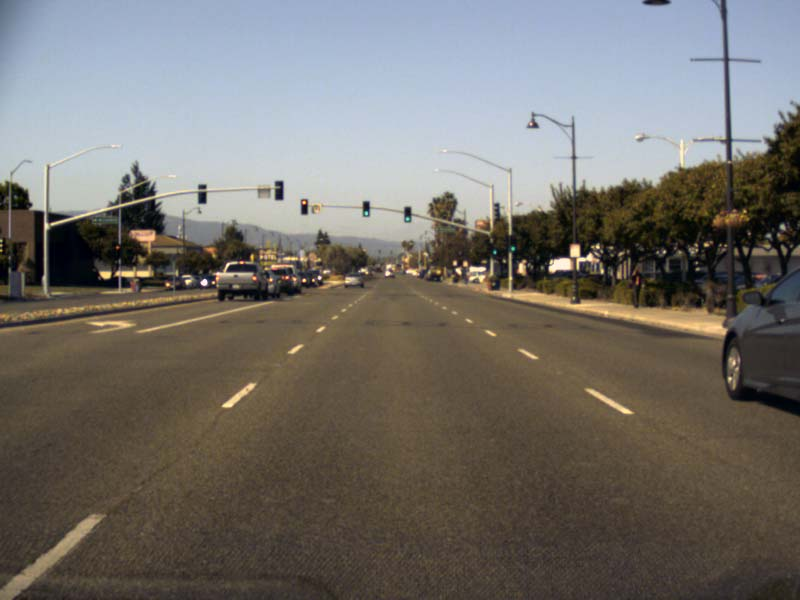Green: (362, 200, 369, 216), (509, 235, 516, 251), (491, 240, 498, 256), (404, 207, 411, 222)
Red: (300, 198, 307, 214), (114, 244, 120, 256)
